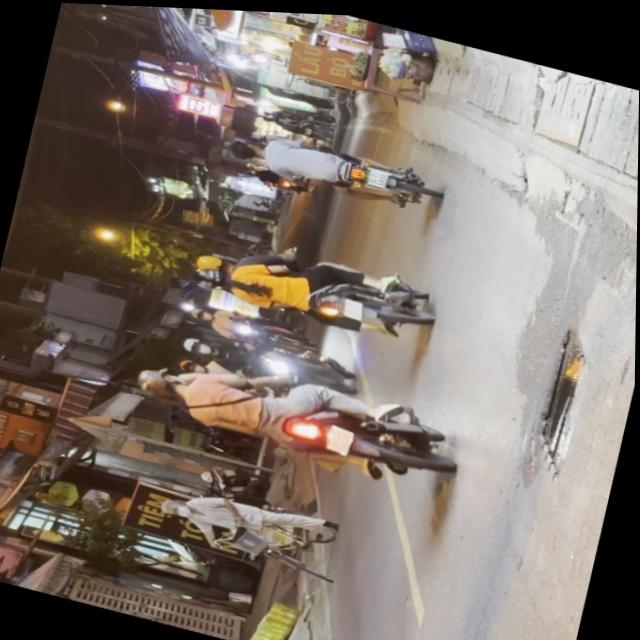helmet: (133, 359, 195, 404), (193, 248, 231, 274), (193, 262, 229, 286)
licenseplate: (124, 335, 462, 497), (185, 222, 440, 349), (218, 115, 443, 217)
motorcyclist: (224, 135, 264, 161)
nohelmet: (326, 420, 356, 451), (342, 294, 365, 316), (367, 163, 390, 184)
